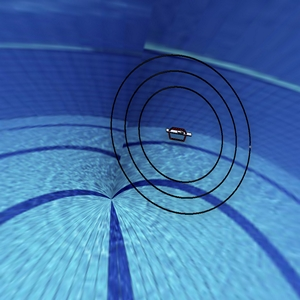circle: (95, 44, 272, 228)
submarine: (163, 118, 195, 153)
